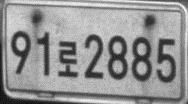1: (34, 30, 52, 77)
2: (82, 33, 105, 80)
5: (156, 37, 177, 84)
8: (130, 35, 153, 82), (106, 34, 129, 80)
9: (10, 29, 32, 75)
로: (56, 40, 80, 79)
